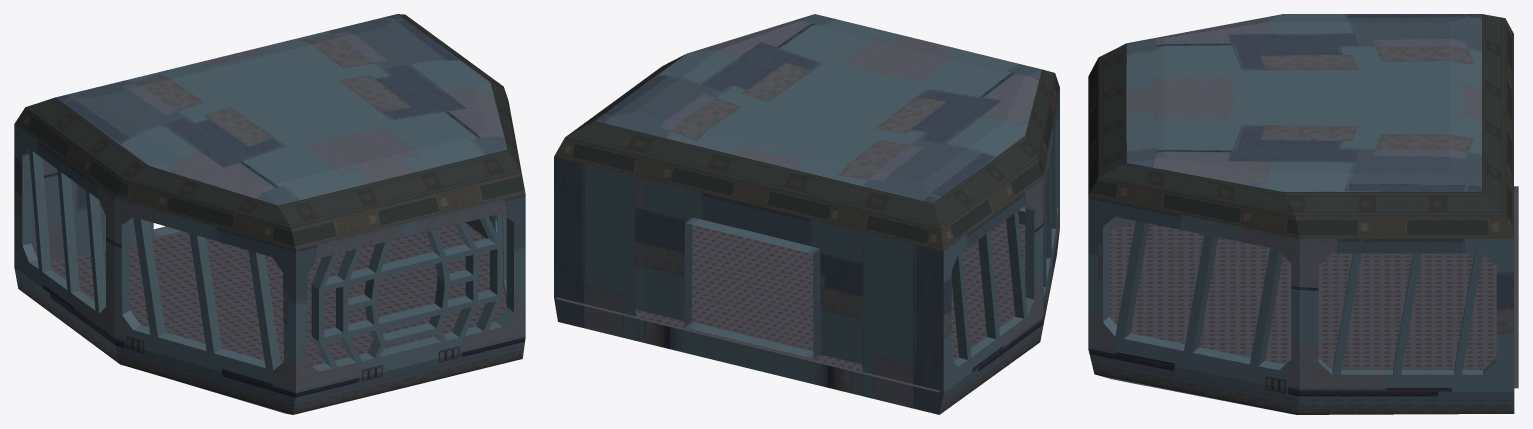
The model's file is mdlArena.fbx.
3 views of the same model, side by side, from view 1: azimuth 30°, elevation 25°; view 2: azimuth 150°, elevation 25°; view 3: azimuth 270°, elevation 25° (orthographic). The views are drawn at different scales.
Parts seen in each view (by area): view 1: Arena, ArenaFloor; view 2: Arena, ArenaFloor; view 3: Arena, ArenaFloor.
Boxes of the visible parts, x1,y1,x2,y2 form: Arena: [14, 14, 525, 414]; ArenaFloor: [51, 222, 506, 366]; Arena: [554, 14, 1059, 414]; ArenaFloor: [555, 220, 1025, 392]; Arena: [1088, 14, 1514, 414]; ArenaFloor: [1109, 186, 1518, 388].
Size of the model in its own units: 152 by 78.17 by 135.
4 materials, 3 textured.
